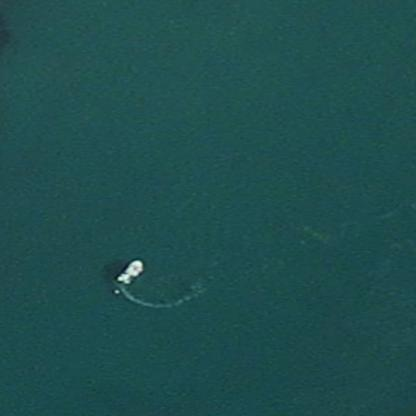ship: (114, 254, 147, 290)
